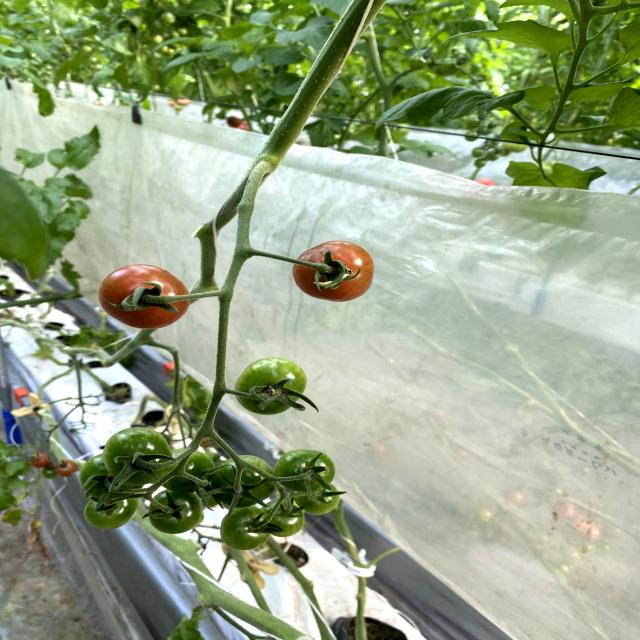ripe0: (234, 357, 307, 416), (104, 428, 174, 483), (216, 454, 273, 507), (274, 449, 335, 494), (148, 487, 204, 535), (221, 509, 273, 550), (85, 495, 139, 529)
ripe2: (97, 264, 189, 330), (293, 241, 375, 302)
